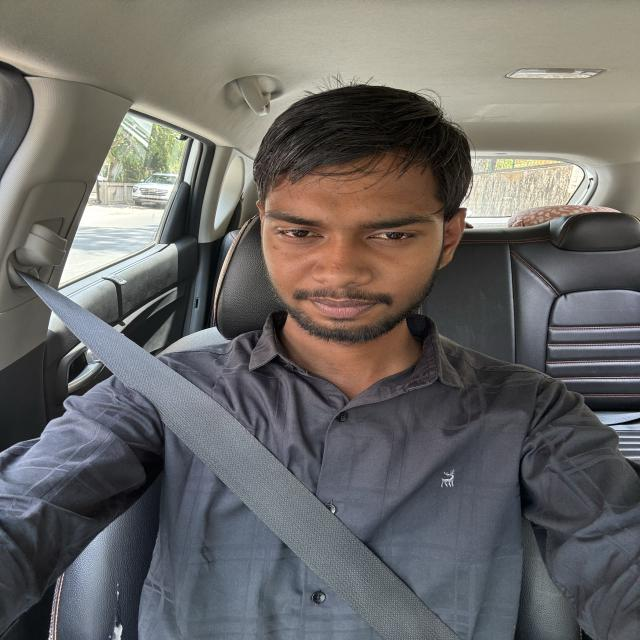seatbelt: (0, 254, 484, 640)
